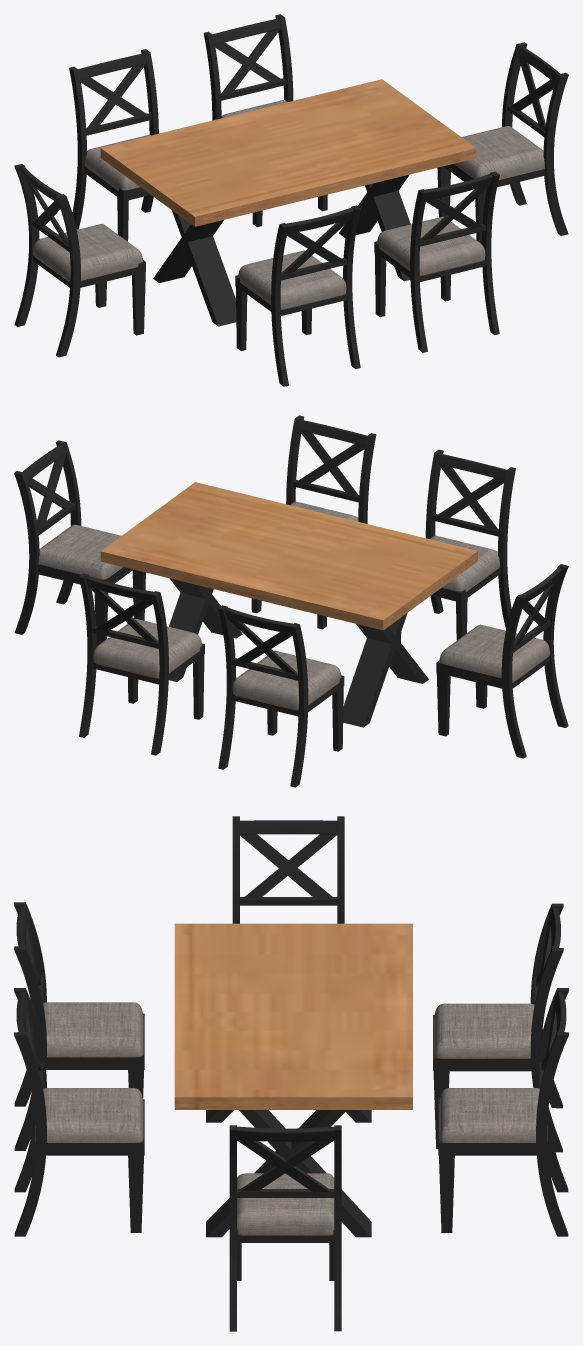
The model's file is Dinning table2.fbx.
3 views of the same model, one above another, from view 1: azimuth 30°, elevation 25°; view 2: azimuth 150°, elevation 25°; view 3: azimuth 270°, elevation 25° (orthographic). The views are drawn at different scales.
Parts seen in each view (by area): view 1: Cube, Cube.025, Cube.081, Cube.067, Cube.011, Cube.086, Cube.015, Cube.001, Cube.057, Cube.071, Cube.029, Cube.016 (+33 smaller); view 2: Cube, Cube.025, Cube.039, Cube.053, Cube.011, Cube.085, Cube.016, Cube.002, Cube.029, Cube.043, Cube.015, Cube.030 (+32 smaller); view 3: Cube, Cube.081, Cube.039, Cube.053, Cube.067, Cube.011, Cube.044, Cube.058, Cube.087, Cube.030, Cube.072, Cube.001 (+23 smaller).
Boxes of the visible parts, left/top/right/bottom form: Cube: left=100, top=79, right=476, bottom=226; Cube.025: left=33, top=223, right=142, bottom=281; Cube.081: left=238, top=250, right=346, bottom=309; Cube.067: left=377, top=216, right=485, bottom=276; Cube.011: left=454, top=126, right=544, bottom=179; Cube.086: left=172, top=210, right=236, bottom=326; Cube.015: left=55, top=194, right=80, bottom=357; Cube.001: left=543, top=72, right=568, bottom=235; Cube.057: left=410, top=189, right=428, bottom=352; Cube.071: left=271, top=223, right=288, bottom=386; Cube.029: left=69, top=66, right=86, bottom=229; Cube.016: left=14, top=164, right=39, bottom=326; Cube: left=100, top=482, right=477, bottom=630; Cube.025: left=439, top=624, right=549, bottom=682; Cube.039: left=232, top=650, right=341, bottom=710; Cube.053: left=93, top=618, right=201, bottom=678; Cube.011: left=38, top=524, right=122, bottom=579; Cube.085: left=343, top=613, right=407, bottom=727; Cube.016: left=501, top=594, right=527, bottom=758; Cube.002: left=14, top=471, right=39, bottom=634; Cube.029: left=290, top=623, right=308, bottom=787; Cube.043: left=151, top=591, right=168, bottom=755; Cube.015: left=543, top=564, right=568, bottom=727; Cube.030: left=218, top=605, right=236, bottom=769; Cube: left=174, top=923, right=412, bottom=1109; Cube.081: left=43, top=1002, right=143, bottom=1057; Cube.039: left=434, top=1003, right=534, bottom=1058; Cube.053: left=439, top=1088, right=547, bottom=1142; Cube.067: left=35, top=1088, right=143, bottom=1142; Cube.011: left=237, top=1173, right=334, bottom=1235; Cube.044: left=536, top=1032, right=568, bottom=1236; Cube.058: left=14, top=1032, right=46, bottom=1236; Cube.087: left=239, top=1110, right=371, bottom=1237; Cube.030: left=530, top=948, right=563, bottom=1152; Cube.072: left=14, top=946, right=46, bottom=1150; Cube.001: left=229, top=1125, right=236, bottom=1331.
Bounding box in the file's own units: 4048 × 1211 × 3023.
3 materials, 2 textured.
